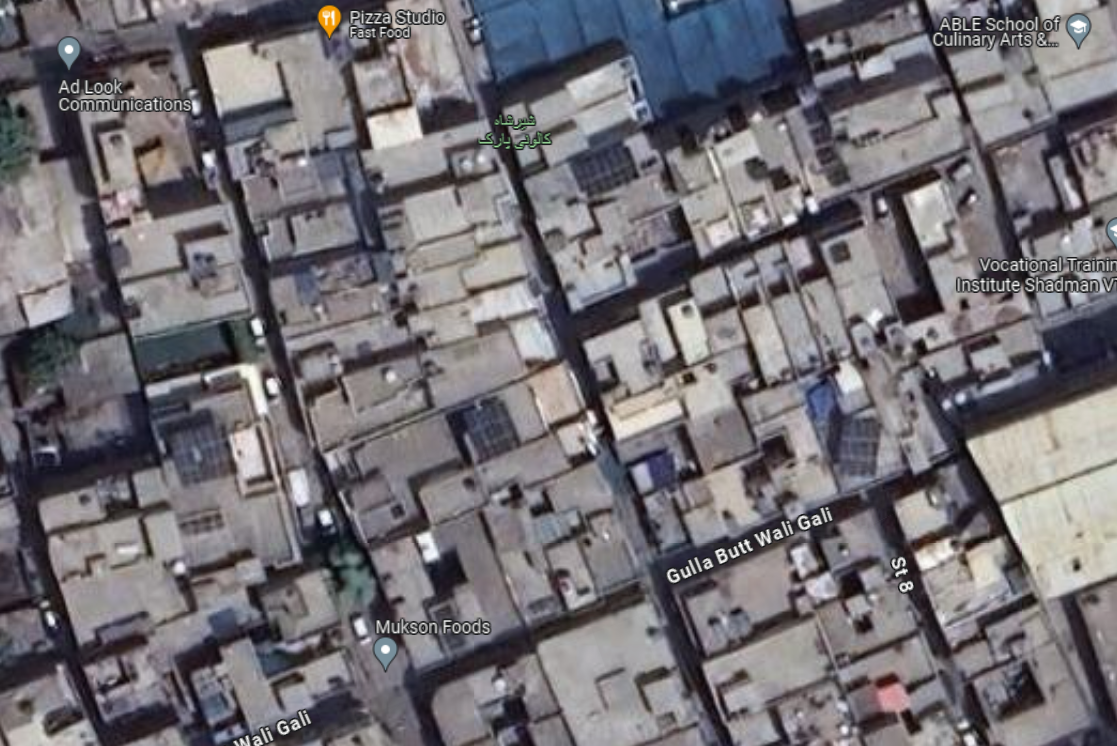solar-panel: (162, 413, 233, 482), (794, 106, 849, 185), (457, 409, 530, 464), (563, 147, 648, 192), (835, 420, 878, 486)
